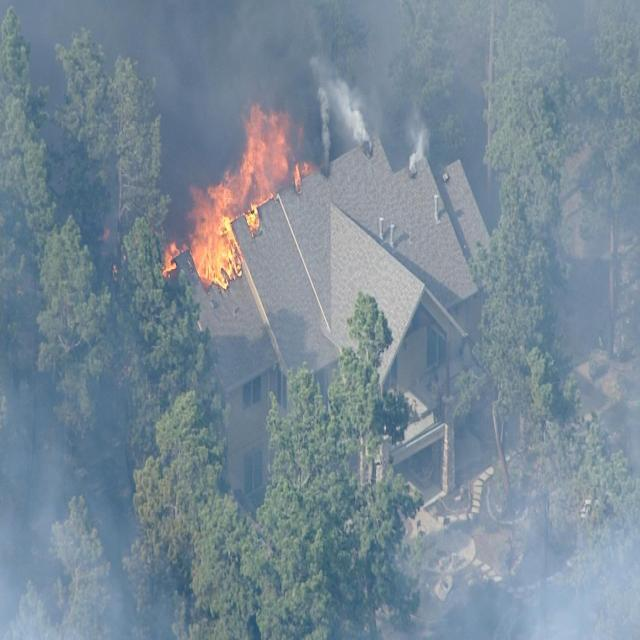Fire: (156, 127, 304, 284)
